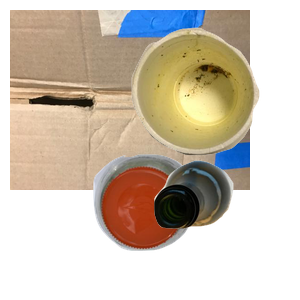cardboard: (10, 10, 250, 190)
glass: (151, 158, 300, 300)
plastic: (91, 152, 281, 300)
trash: (129, 25, 300, 173)
